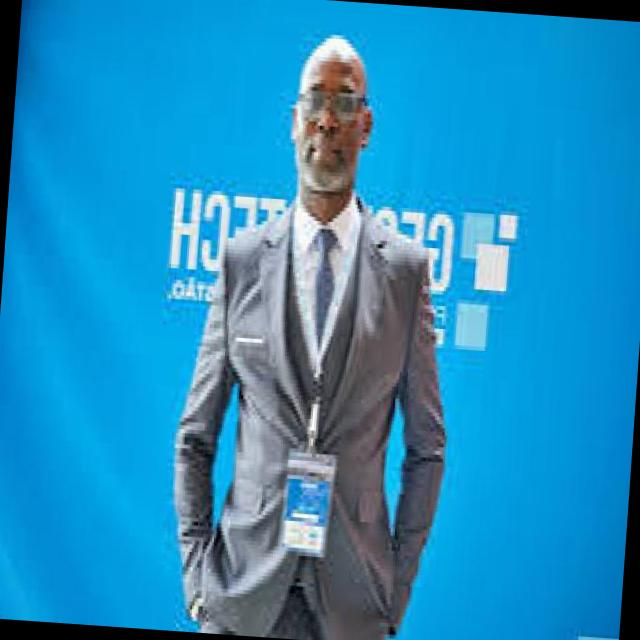id_card: (268, 194, 360, 555)
